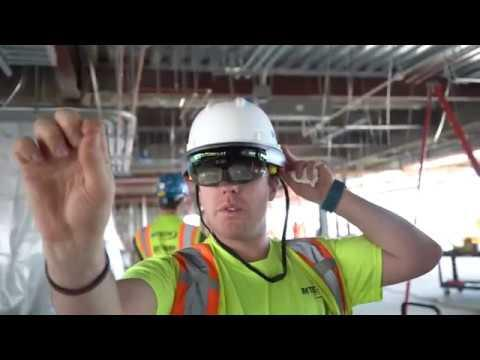helmet: (186, 99, 284, 165), (157, 175, 189, 200)
